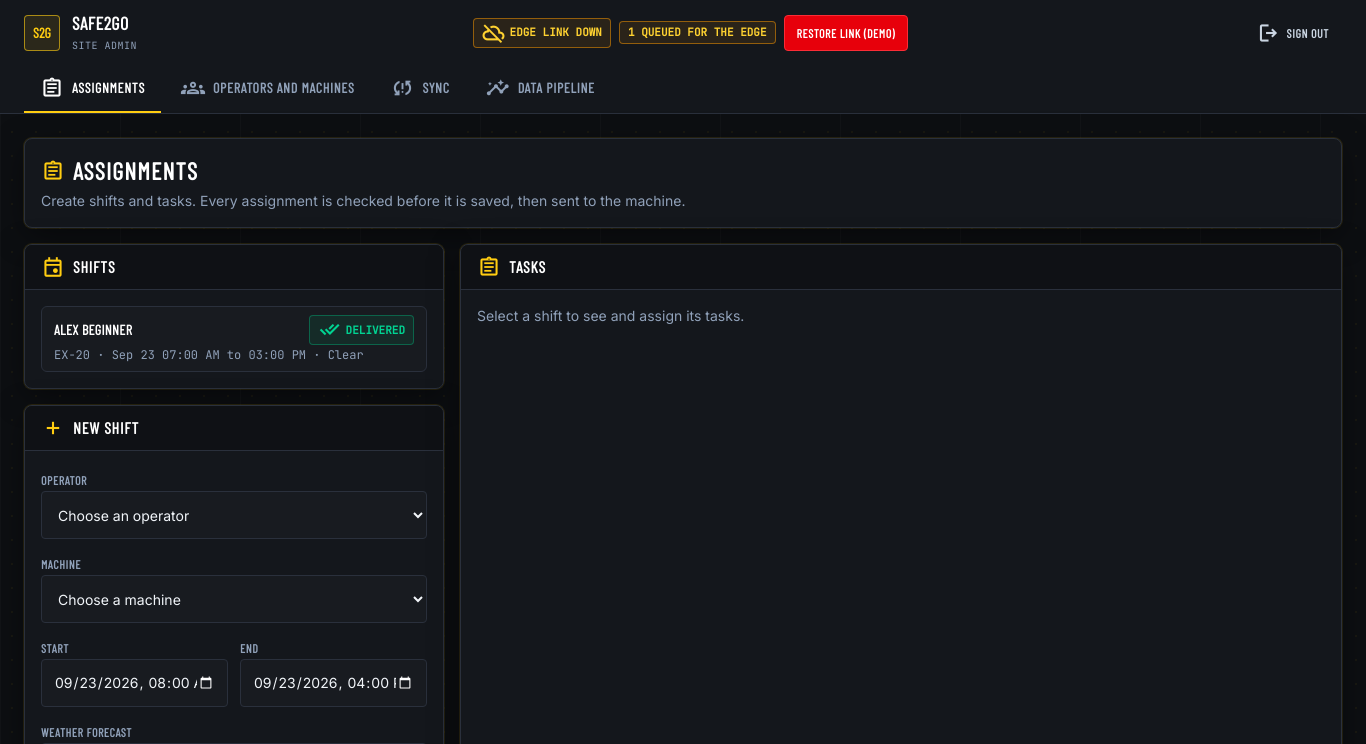
Scenario: Admin assignments › shows a rejected assignment inline with its reason
The image size is (1366, 744).
Click the button "Alex Beginner".
click(93, 330)  # box [41, 306, 427, 372]
(page scrolled)
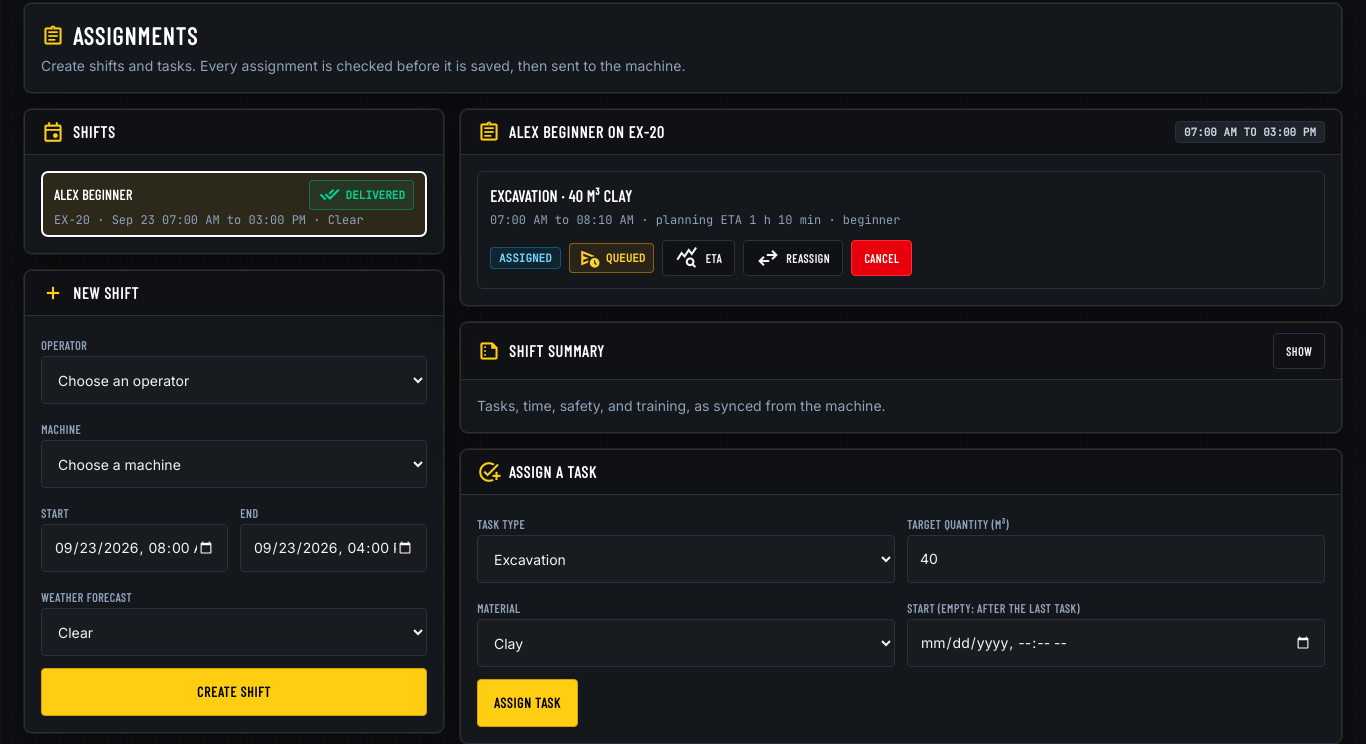
Click the button "Assign task".
click(527, 703)  # box [477, 679, 578, 727]
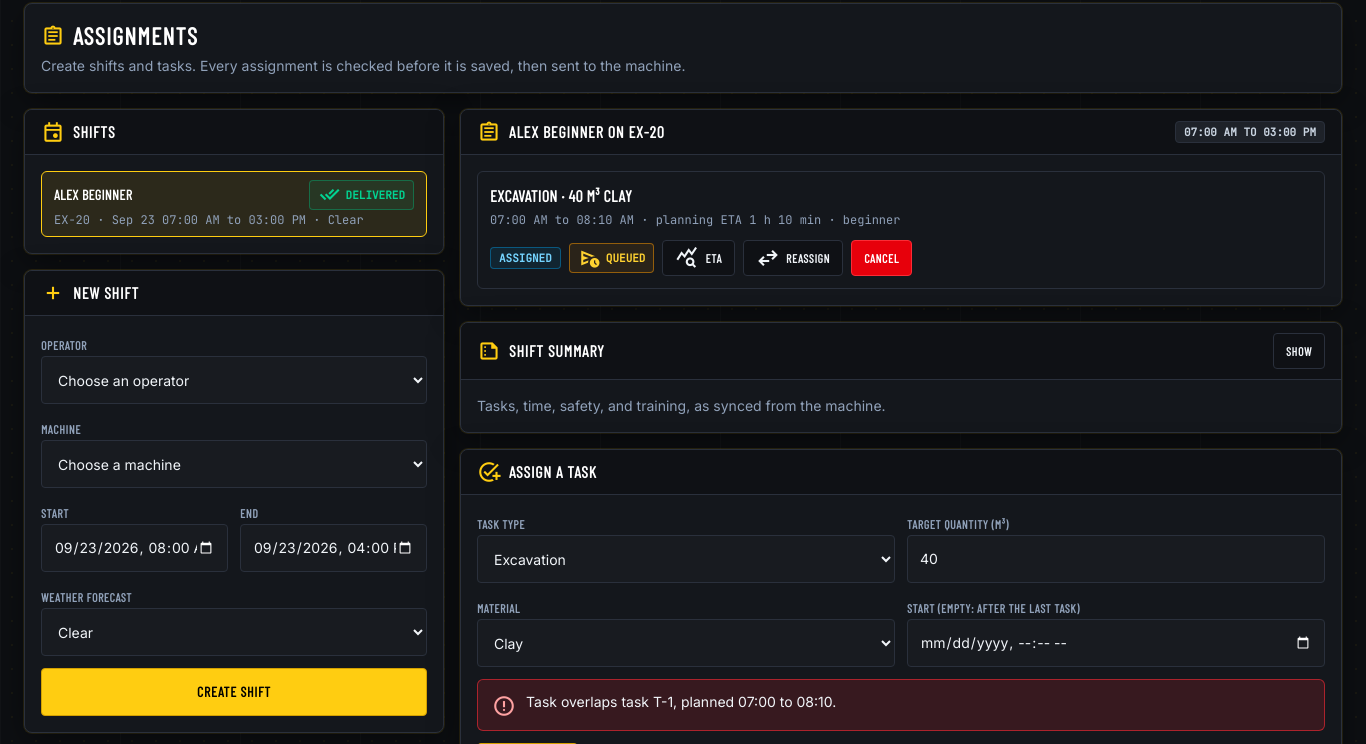
Now the message shows "Task overlaps task T-1", box [526, 693, 836, 710]
